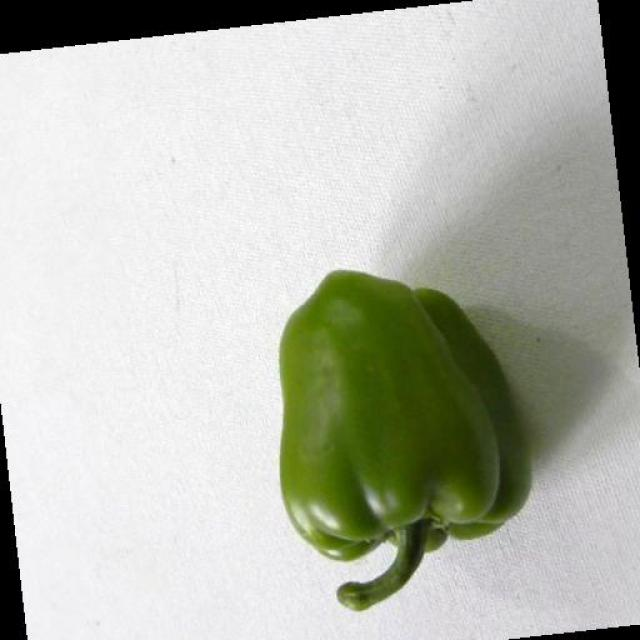Fresh_Capsicum: (274, 280, 532, 563)
